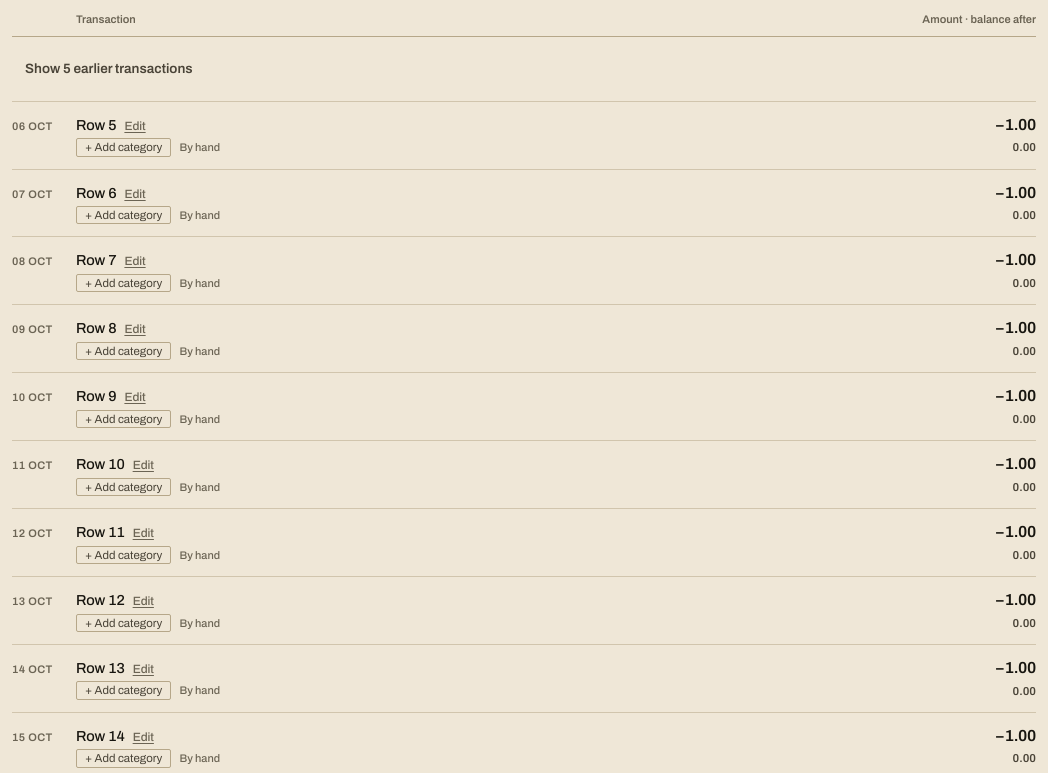
Scenario: LedgerList › opens on the most recent transactions, with the rest a click away
The width and height of the screenshot is (1048, 773).
Expected: the text "Row 0" is not shown
Click the button "Show 5 earlier transactions".
click(109, 69)  # box [12,45,206,93]
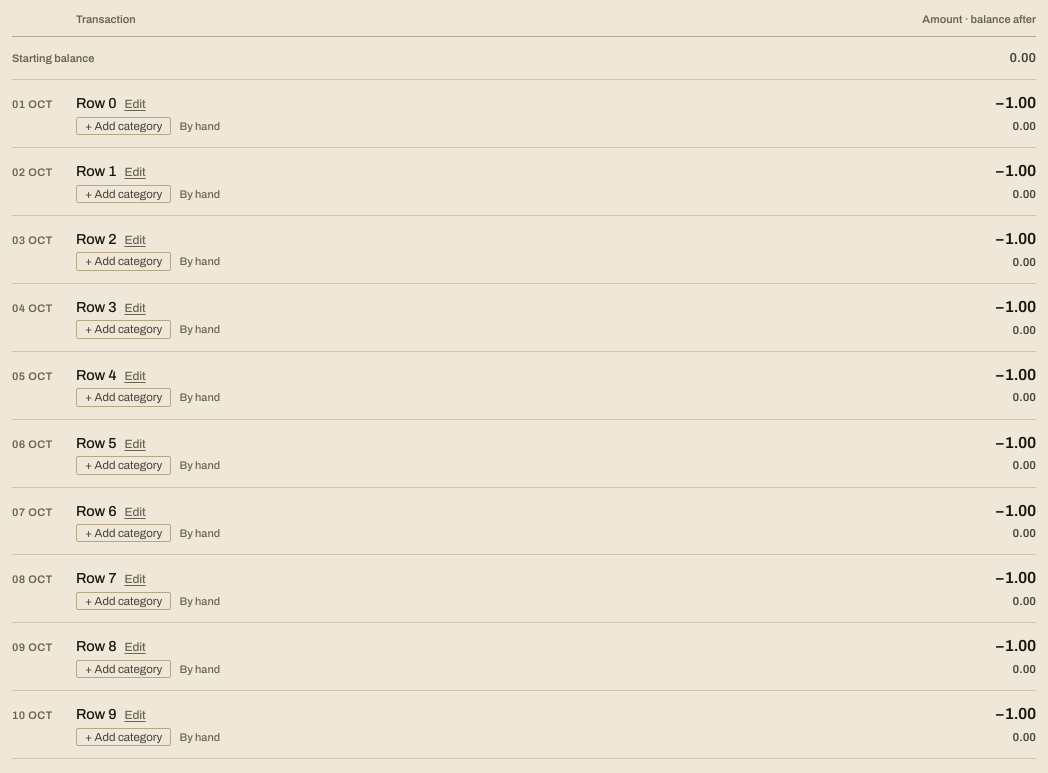
Result: the button "Row 0Edit" is shown at [76,93,983,114]
Result: the text "Starting balance" is shown at [12,51,94,66]
